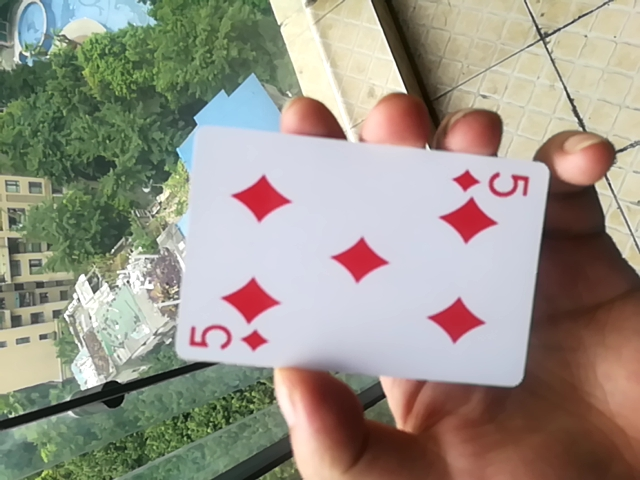fk 5: (167, 122, 555, 392)
